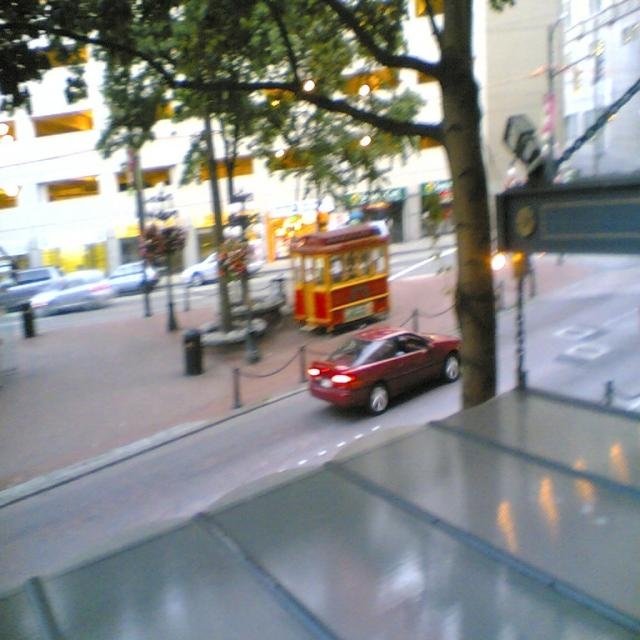car: (23, 265, 115, 307)
